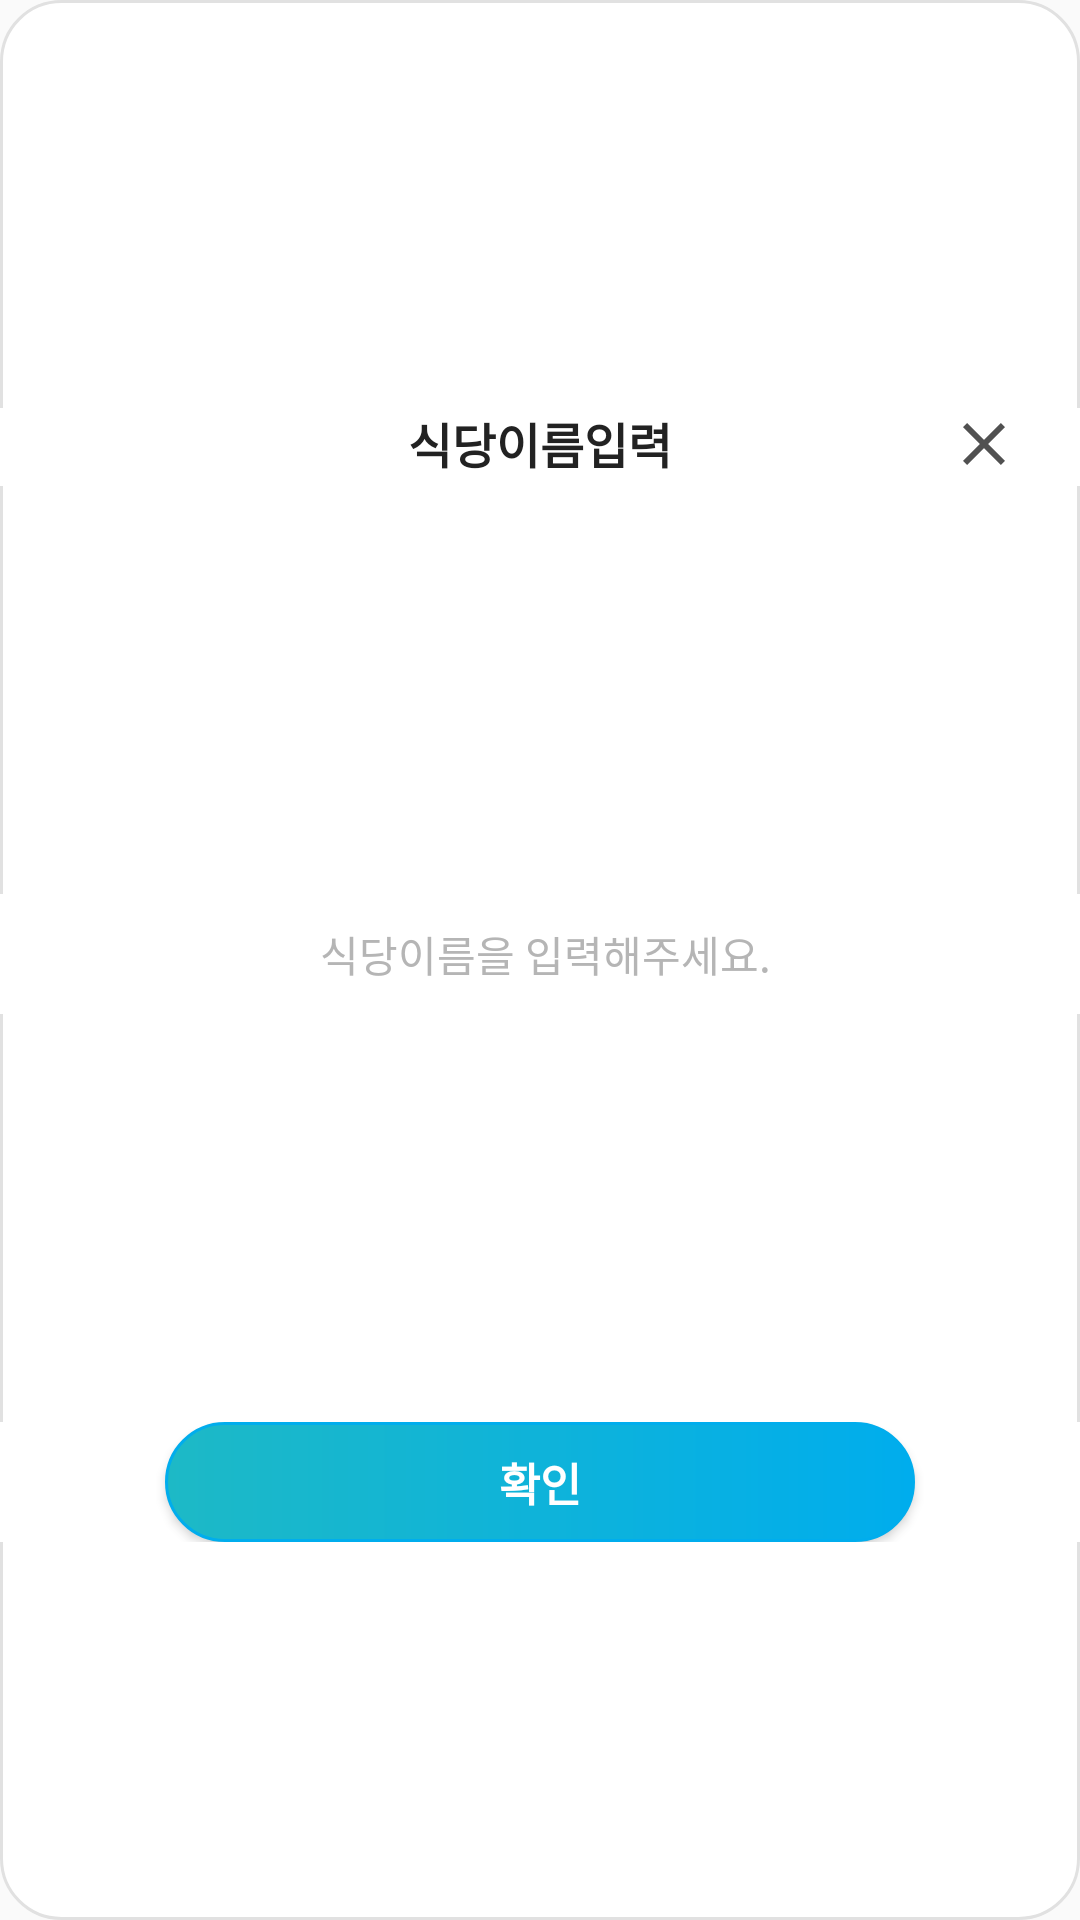

Screen size 1080px x 1920px. Icon name, then its center in pixels as (x=x, y=y):
clear: (x=984, y=444)
